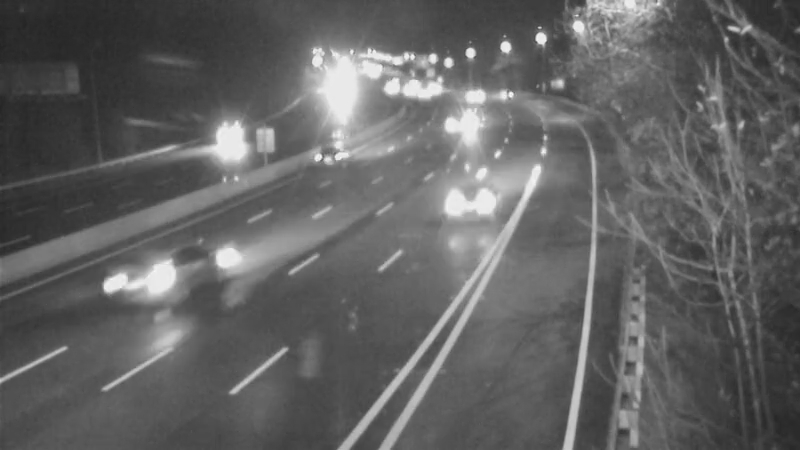vehicle: (283, 116, 363, 196), (433, 166, 513, 246), (116, 241, 196, 321), (474, 71, 524, 121), (447, 71, 497, 121), (441, 98, 491, 148), (202, 115, 252, 165)
